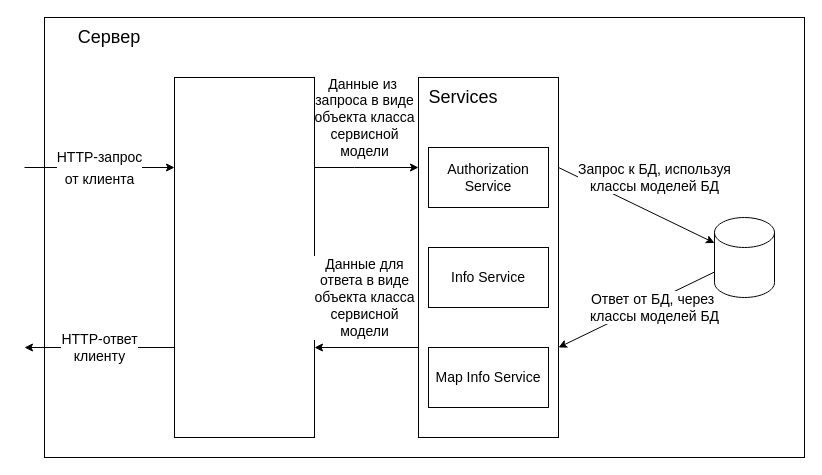
Some shapes in this 822 by 475 pixel diagram are drawn without their labels. Here are the shapes that lost their labels. From the top down, the centre of each, then its label:
(244,257): Controller
(744,257): DB
